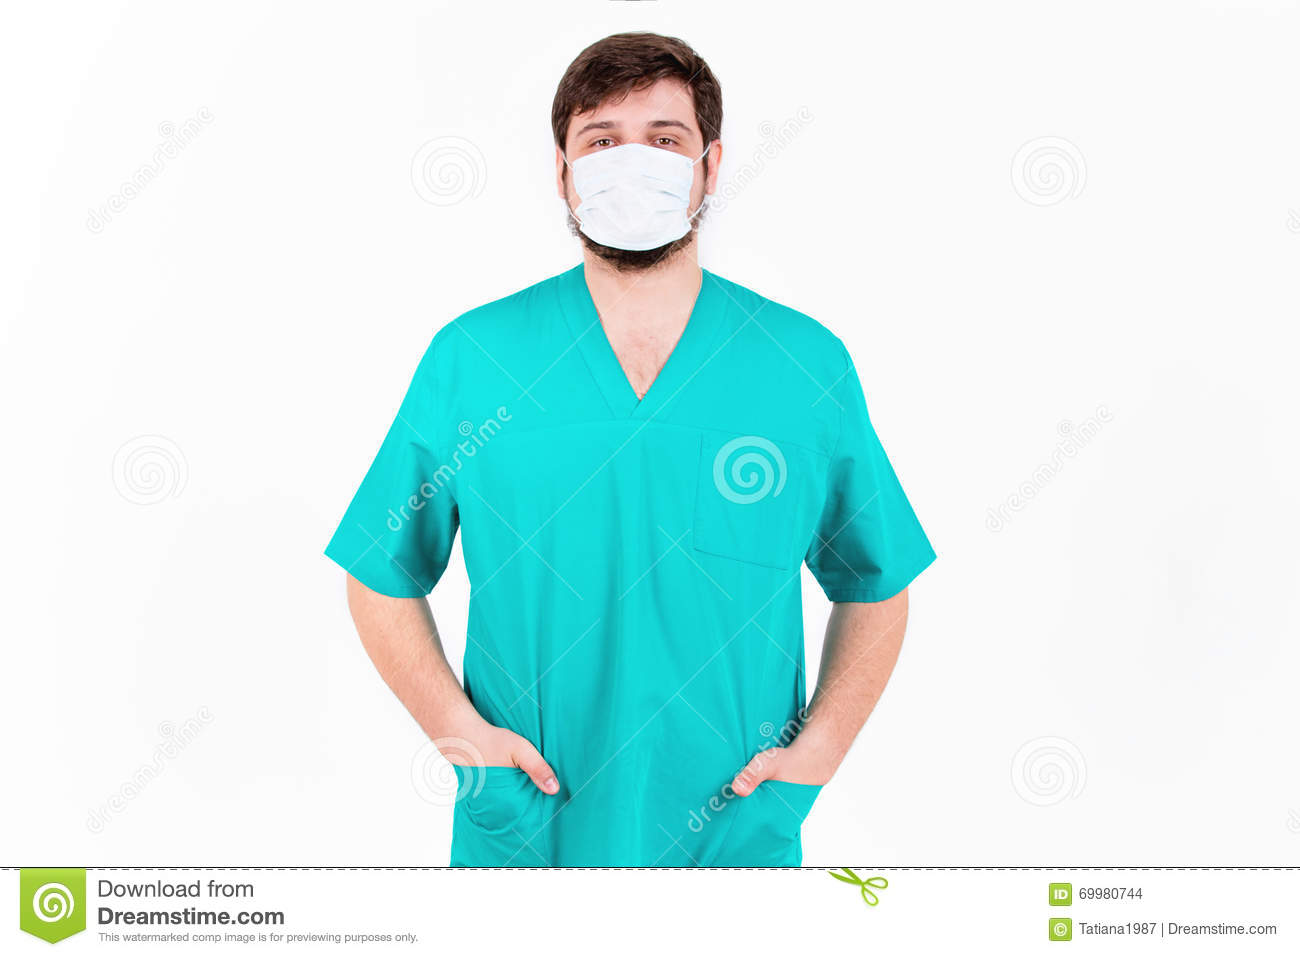mask: (570, 144, 705, 246)
